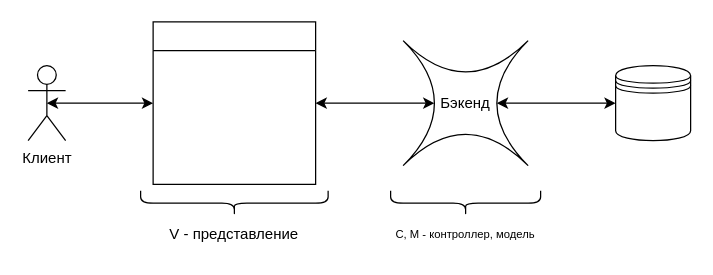
The diagram is 713 pixels wide and 275 high, and some of its shapes have lost their labels. Each missing label, with the centre of its shape:
"БД" belongs at pixel 652 102.
"Фронтенд" belongs at pixel 234 102.
